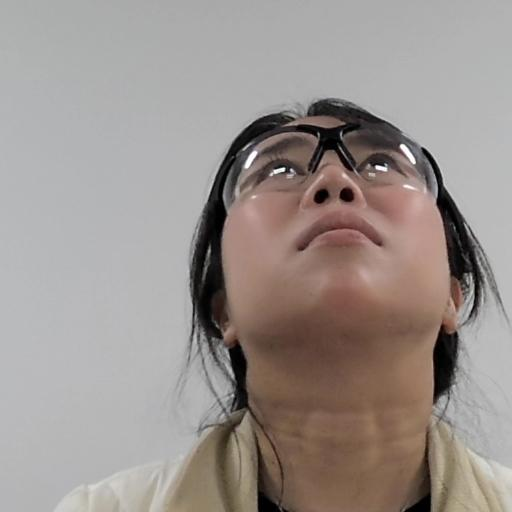glasses: (205, 96, 495, 405)
